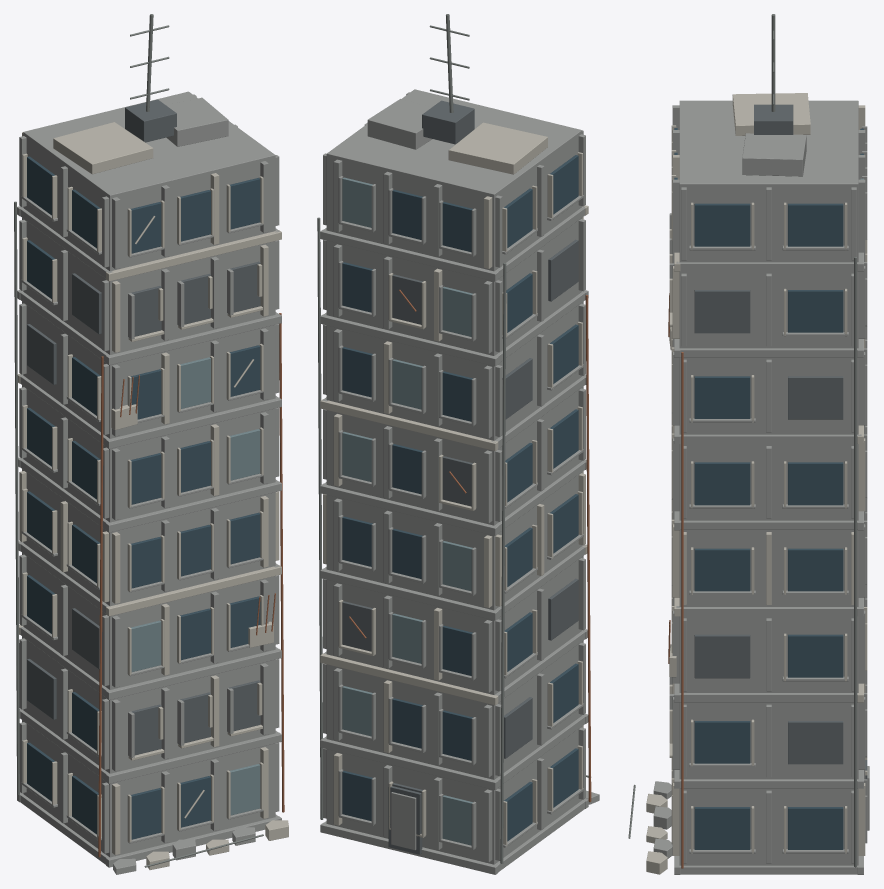
The model's file is Apoc_Building_03_Narrow_Signal_Tower.fbx.
3 renders of one model, left to right at view 1: azimuth 30°, elevation 25°; view 2: azimuth 150°, elevation 25°; view 3: azimuth 270°, elevation 25°, orthographic. The views are drawn at different scales.
Visible parts, largest first — view 1: Apoc_Building_03_Narrow_Signal_Tower; view 2: Apoc_Building_03_Narrow_Signal_Tower; view 3: Apoc_Building_03_Narrow_Signal_Tower.
Part boxes in pixels (bbox=[...]): Apoc_Building_03_Narrow_Signal_Tower: bbox=[14, 14, 288, 874]; Apoc_Building_03_Narrow_Signal_Tower: bbox=[317, 14, 599, 874]; Apoc_Building_03_Narrow_Signal_Tower: bbox=[628, 14, 869, 874].
Size of the model in its own units: 4.95 by 20.2 by 5.39.
